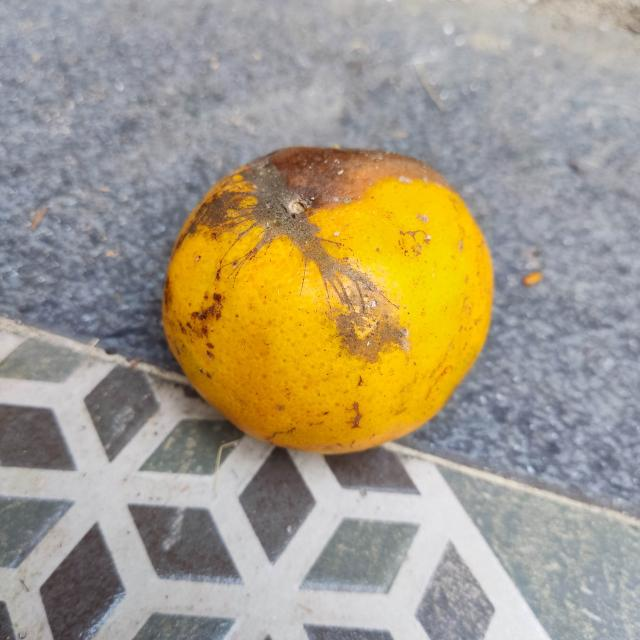orange: (159, 144, 495, 454)
